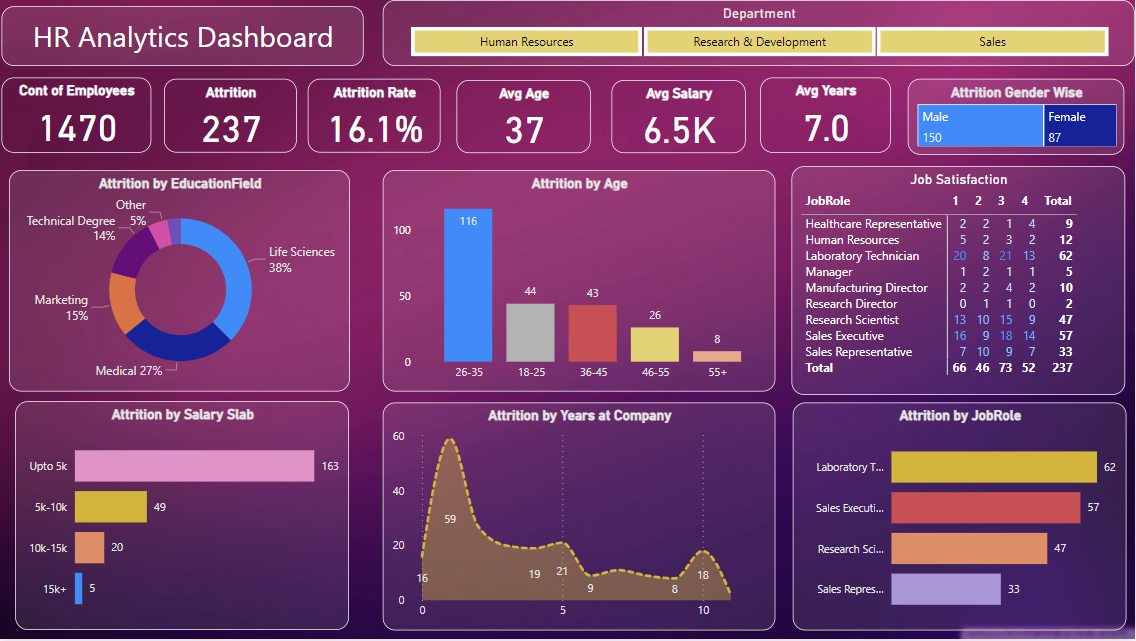

The dashboard page shown, as its layout file describes it:
{"tool":"powerbi","page":{"name":"Page 1","canvas":[1280,720],"ordinal":0},"visuals":[{"type":"card","title":"Cont of Employees","fields":{"Values":["CountNonNull(HR_Analytics.EmpID)"]},"box":[2.7,87.6,168.5,84.9],"z":0},{"type":"card","title":"Attrition ","fields":{"Values":["Sum(HR_Analytics.AttritionCount)"]},"box":[186,88.9,149.6,83.6],"z":1000},{"type":"card","title":"Attrition Rate","fields":{"Values":["HR_Analytics.Attrition_rate"]},"box":[347.7,88.9,149.6,83.6],"z":2000},{"type":"card","title":"Avg Age","fields":{"Values":["Avg(HR_Analytics.Age)"]},"box":[514.8,90.3,150.9,82.2],"z":3000},{"type":"card","title":"Avg Salary","fields":{"Values":["Avg(HR_Analytics.MonthlyIncome)"]},"box":[690,90.3,150.9,82.2],"z":4000},{"type":"card","title":"Avg Years","fields":{"Values":["Avg(HR_Analytics.YearsAtCompany)"]},"box":[857.1,87.6,146.9,84.9],"z":5000},{"type":"donutChart","title":" Attrition by EducationField","fields":{"Category":["HR_Analytics.EducationField"],"Y":["Sum(HR_Analytics.AttritionCount)"]},"box":[10.9,191.4,384.2,249.8],"z":6000},{"type":"columnChart","title":" Attrition by Age","fields":{"Y":["Sum(HR_Analytics.AttritionCount)"],"Category":["HR_Analytics.AgeGroup"]},"box":[431.7,191.4,442.6,249.8],"z":7000},{"type":"clusteredBarChart","title":" Attrition by Salary Slab","fields":{"Y":["Sum(HR_Analytics.AttritionCount)"],"Category":["HR_Analytics.SalarySlab"]},"box":[18.9,451.5,376,257.4],"z":8000},{"type":"stackedAreaChart","title":" Attrition by Years at Company","fields":{"Category":["HR_Analytics.YearsAtCompany"],"Y":["Sum(HR_Analytics.AttritionCount)"]},"box":[431.7,453.5,442.6,256.6],"z":9000},{"type":"clusteredBarChart","title":" Attrition by JobRole","fields":{"Y":["Sum(HR_Analytics.AttritionCount)"],"Category":["HR_Analytics.JobRole"]},"box":[894.7,453.5,376.1,256.6],"z":10000},{"type":"treemap","title":" Attrition Gender Wise","fields":{"Values":["Sum(HR_Analytics.AttritionCount)"],"Group":["HR_Analytics.Gender"]},"box":[1023.7,88.2,244.4,85.5],"z":11000},{"type":"slicer","title":"Department","fields":{"Values":["HR_Analytics.Department"]},"box":[433.1,0,847.2,74.7],"z":12000},{"type":"textbox","box":[2.7,6.8,408.3,67.6],"z":13000},{"type":"pivotTable","title":"Job Satisfaction","fields":{"Rows":["HR_Analytics.JobRole"],"Columns":["HR_Analytics.JobSatisfaction"],"Values":["Sum(HR_Analytics.AttritionCount)"]},"box":[893.3,187.4,376.1,258],"z":14000}]}

Visuals, with their boxes in screenshot pixels (x1, y1, x2, y2), scaled from the page's 1280x720 canvas onto the 1136x641 screenshot:
"Cont of Employees" card: l=2, t=78, r=152, b=154
"Attrition " card: l=165, t=79, r=298, b=154
"Attrition Rate" card: l=309, t=79, r=441, b=154
"Avg Age" card: l=457, t=80, r=591, b=154
"Avg Salary" card: l=612, t=80, r=746, b=154
"Avg Years" card: l=761, t=78, r=891, b=154
" Attrition by EducationField" donutChart: l=10, t=170, r=351, b=393
" Attrition by Age" columnChart: l=383, t=170, r=776, b=393
" Attrition by Salary Slab" clusteredBarChart: l=17, t=402, r=350, b=631
" Attrition by Years at Company" stackedAreaChart: l=383, t=404, r=776, b=632
" Attrition by JobRole" clusteredBarChart: l=794, t=404, r=1128, b=632
" Attrition Gender Wise" treemap: l=909, t=79, r=1125, b=155
"Department" slicer: l=384, t=0, r=1135, b=67
textbox: l=2, t=6, r=365, b=66
"Job Satisfaction" pivotTable: l=793, t=167, r=1127, b=397
